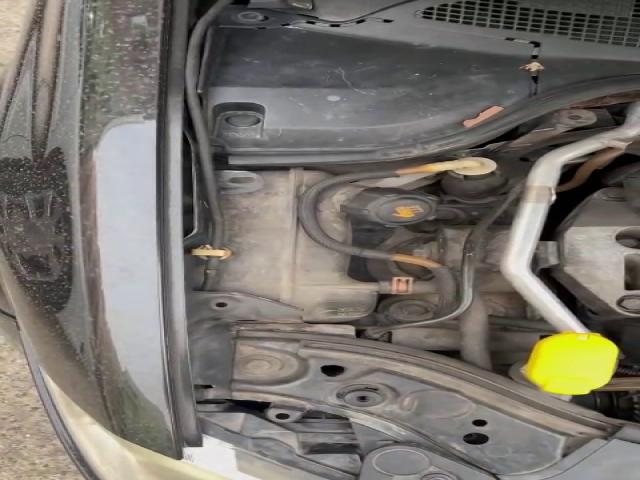antifreeze_tank: (219, 169, 378, 322), (318, 184, 437, 241)
